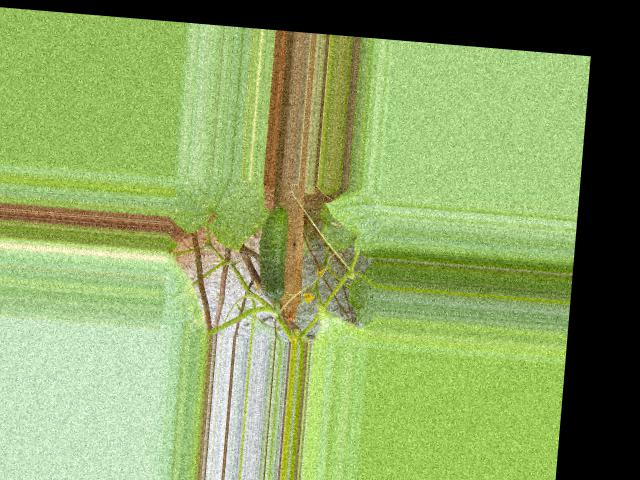cucumber: (255, 204, 292, 300)
